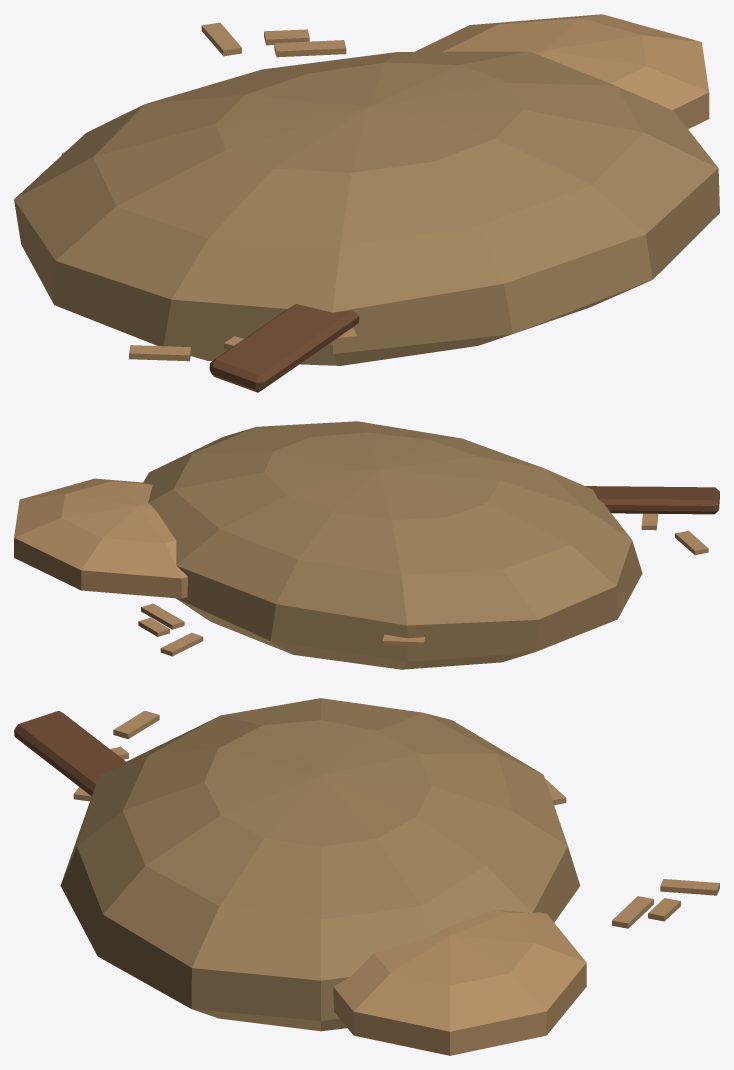
File: sawdust.glb
The picture shows the model from 3 angles, top to bottom: view 1: azimuth 30°, elevation 25°; view 2: azimuth 150°, elevation 25°; view 3: azimuth 270°, elevation 25°; orthographic projection. The views are drawn at different scales.
Parts seen in each view (by area): view 1: Sawdust; view 2: Sawdust; view 3: Sawdust.
Boxes of the visible parts, x1=… form: Sawdust: x1=14, y1=14, x2=719, y2=392; Sawdust: x1=14, y1=421, x2=719, y2=669; Sawdust: x1=14, y1=698, x2=719, y2=1055.
Size of the model in its own units: 1.08 by 0.28 by 0.9836.
